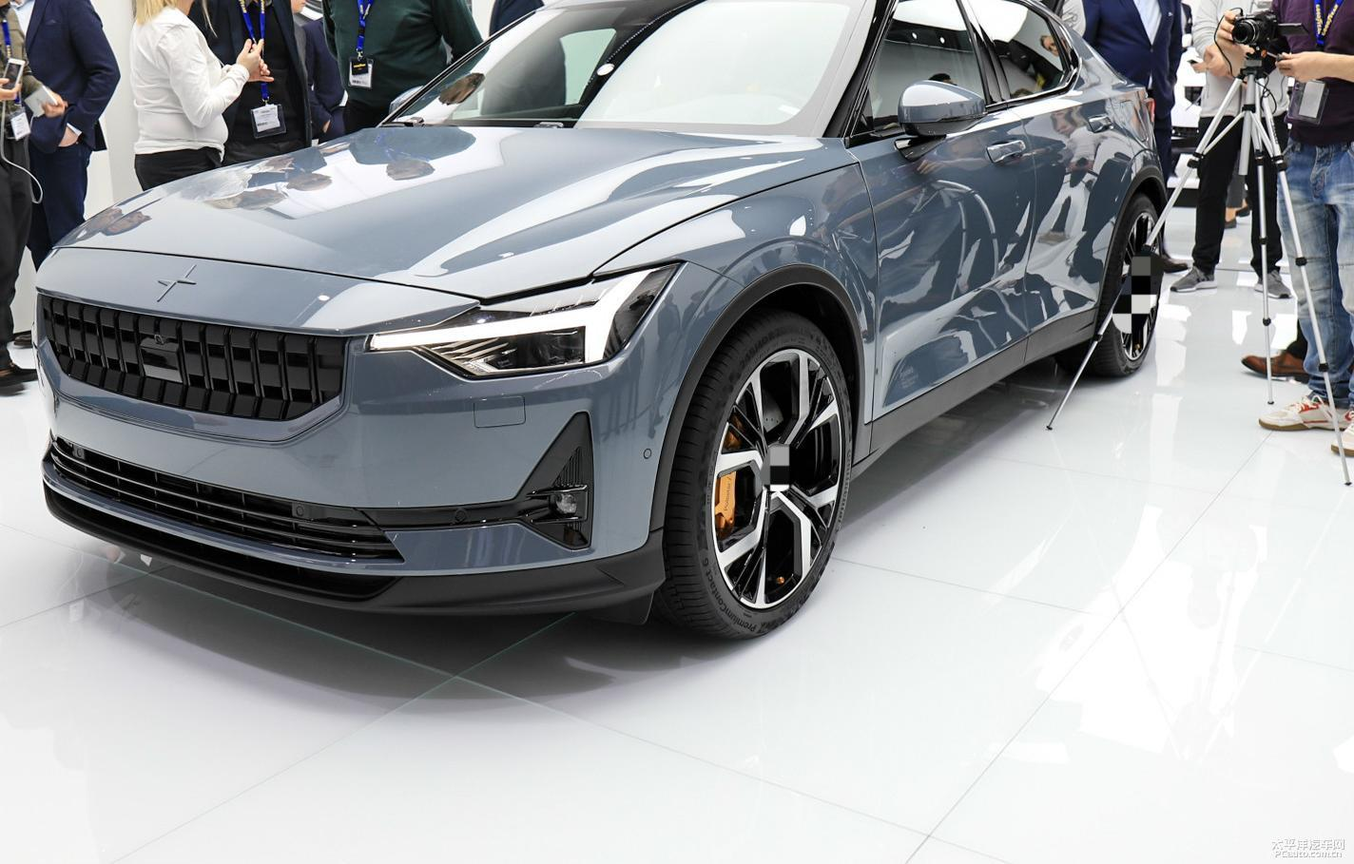Polestar: (157, 264, 196, 302)
